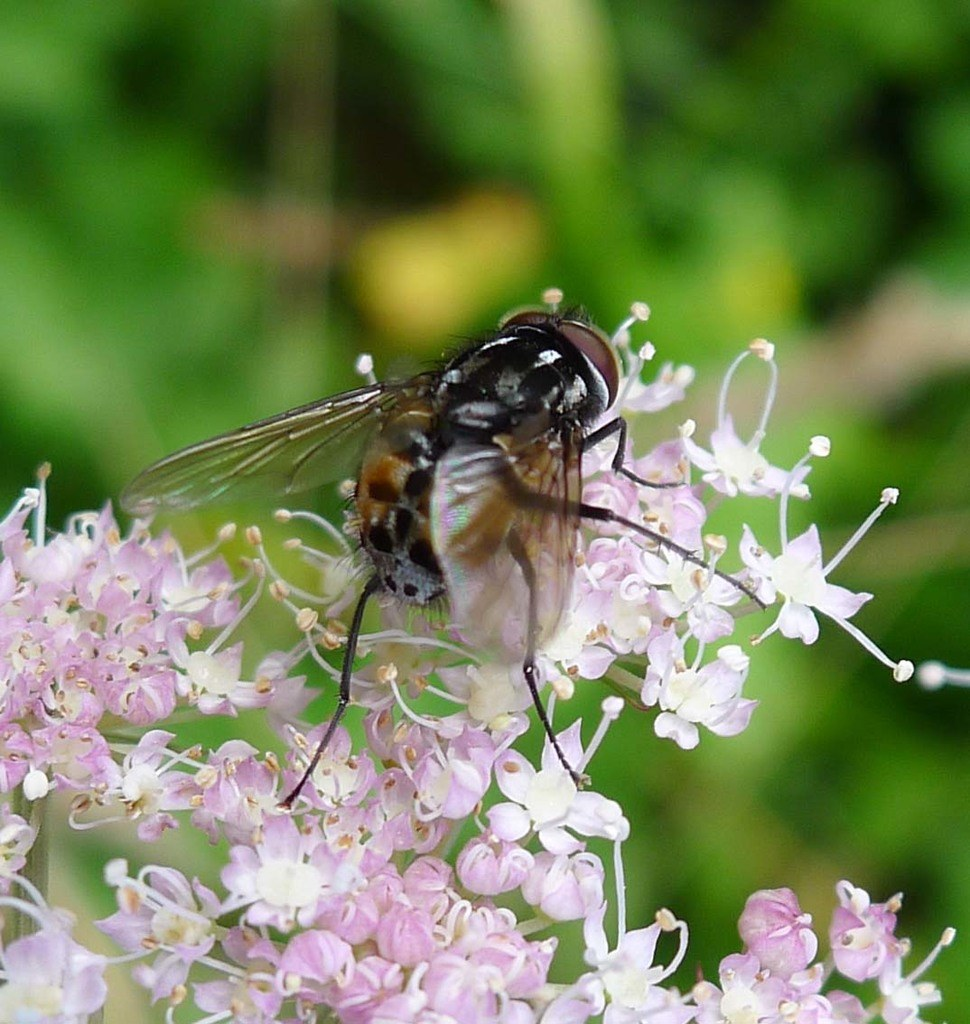bee: (114, 308, 767, 807)
